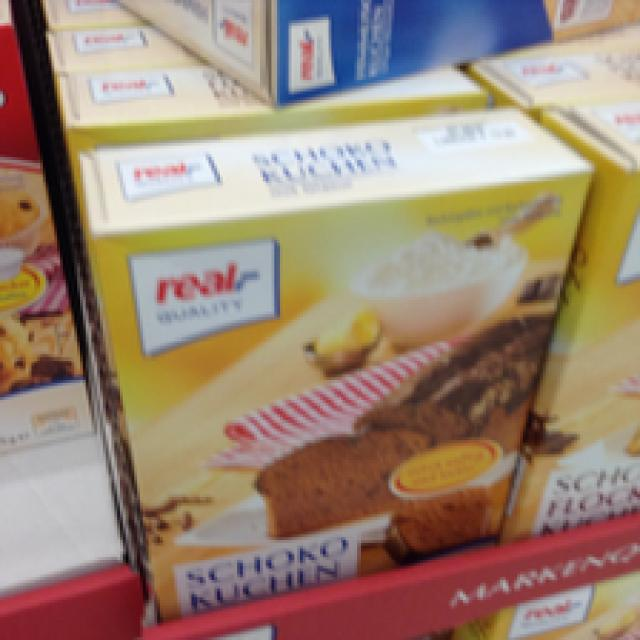groceries: (75, 97, 594, 617)
